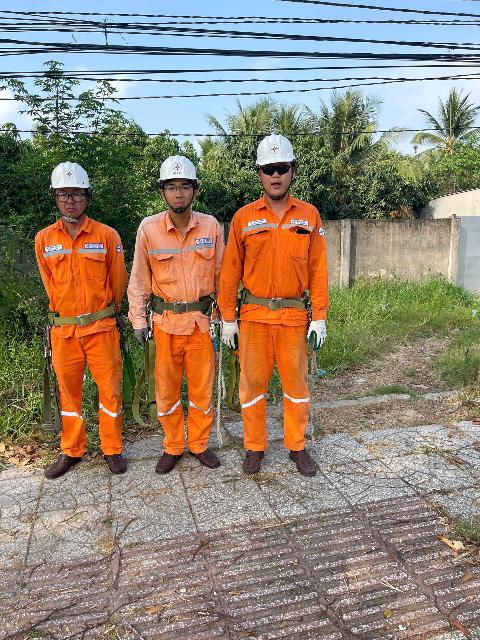gloves: (302, 323, 338, 353), (217, 317, 244, 347), (127, 324, 155, 347)
harness: (227, 277, 328, 317), (138, 289, 220, 319), (33, 305, 126, 327)
helmet: (150, 145, 203, 189), (248, 132, 301, 167), (46, 161, 96, 193)
shoes: (36, 441, 86, 487), (147, 442, 184, 480), (99, 443, 139, 478), (187, 440, 229, 471), (283, 444, 322, 477), (241, 437, 267, 482)
